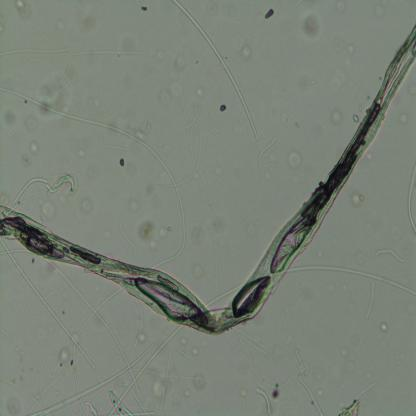Background material: (39, 61, 77, 113), (299, 7, 322, 42), (147, 40, 170, 70), (297, 71, 317, 94), (23, 113, 40, 136), (287, 148, 303, 172), (347, 189, 366, 209), (14, 0, 31, 21), (239, 42, 255, 63), (190, 228, 206, 247), (159, 226, 177, 242), (140, 219, 153, 241), (331, 108, 343, 127), (192, 264, 206, 279), (172, 57, 186, 70), (263, 6, 274, 22), (195, 378, 207, 392), (216, 224, 228, 238), (379, 320, 390, 335), (30, 139, 40, 155), (270, 387, 281, 401), (399, 112, 409, 126), (347, 42, 356, 55), (139, 5, 151, 14), (118, 157, 126, 170), (191, 347, 198, 360), (351, 114, 360, 124), (219, 104, 226, 112)
Cotton: (0, 24, 416, 334)
Glass filter fibre: (0, 84, 186, 263), (32, 324, 187, 415), (42, 258, 141, 394), (0, 236, 97, 371), (172, 0, 260, 142), (290, 261, 416, 298), (8, 174, 80, 212), (232, 328, 288, 372), (295, 350, 325, 414), (335, 381, 376, 414), (203, 281, 241, 309), (403, 159, 416, 240), (117, 212, 138, 258), (73, 47, 145, 58), (376, 245, 407, 266), (108, 388, 132, 415), (0, 47, 72, 56), (259, 136, 276, 173), (364, 282, 378, 323), (131, 299, 142, 349), (256, 386, 272, 414), (0, 245, 29, 259), (82, 397, 99, 415), (102, 146, 130, 153)
